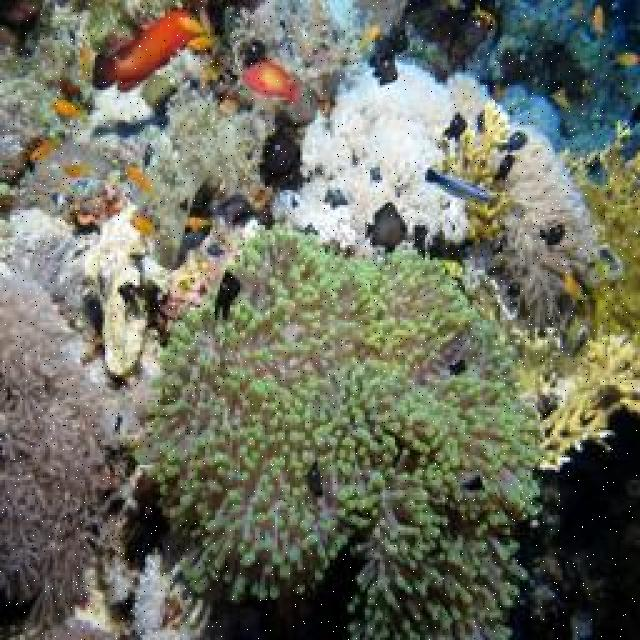fish: (92, 9, 204, 94), (241, 62, 299, 108), (425, 167, 490, 201), (364, 202, 407, 252), (212, 269, 242, 324)
reefs: (133, 221, 559, 638), (505, 117, 638, 468), (0, 270, 117, 638), (490, 124, 602, 330), (440, 99, 512, 241)
